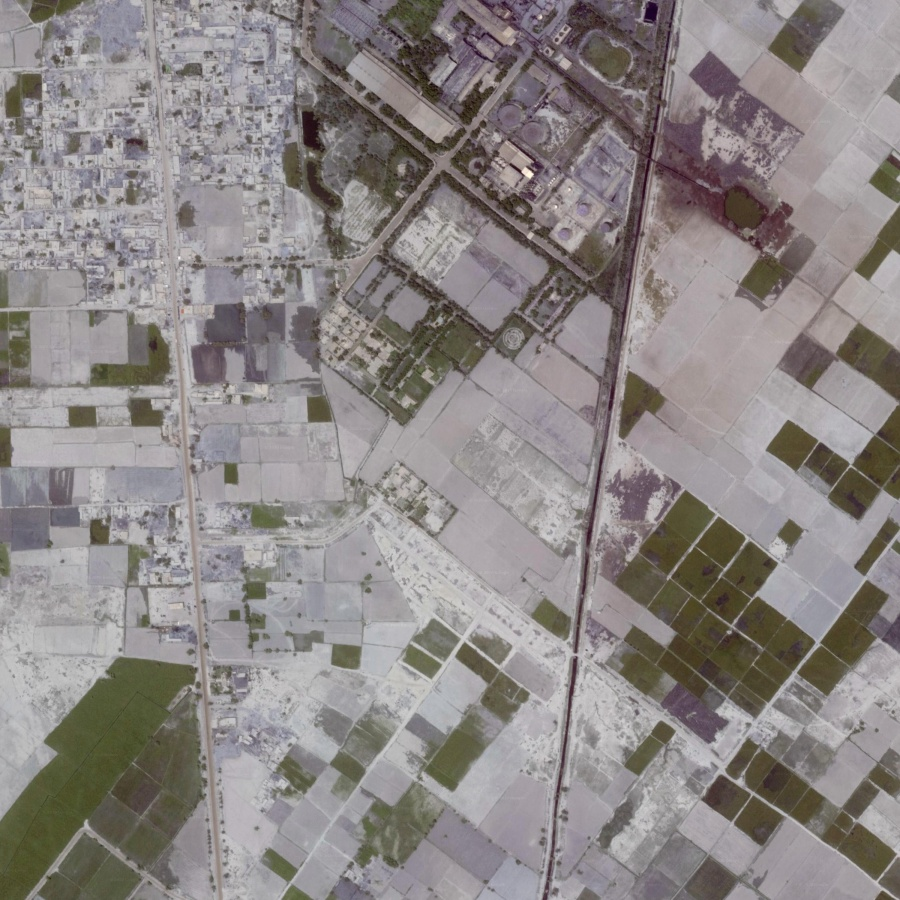PowerPlant: (444, 31, 634, 249)
